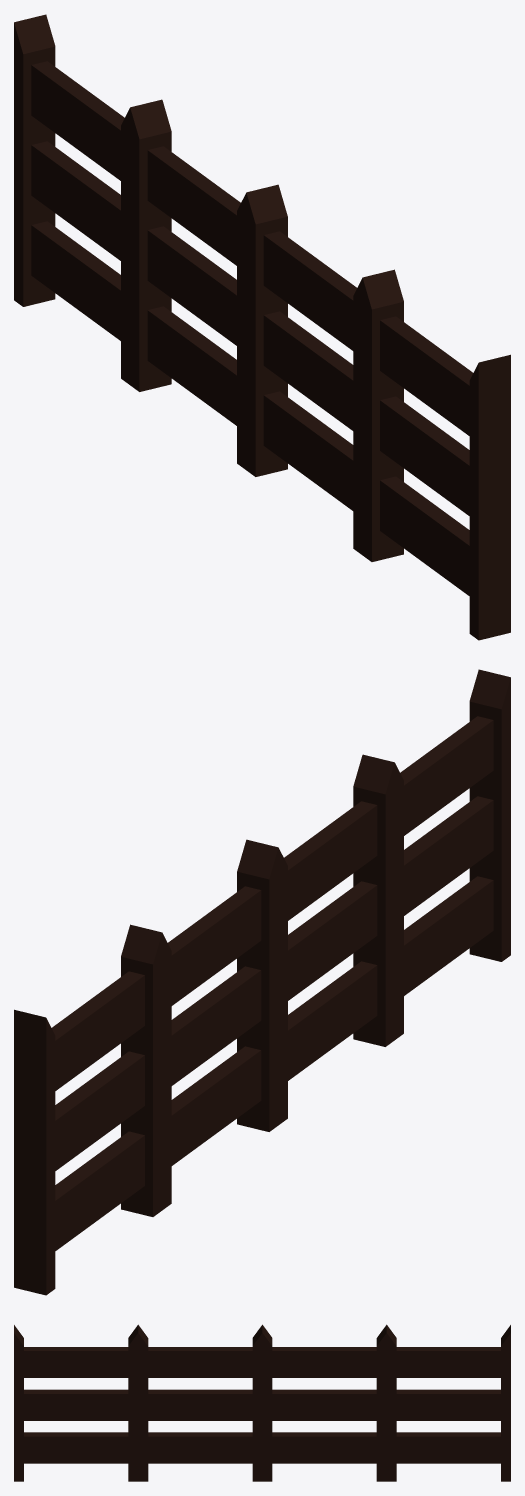
The model's file is h-004_fence_5.0_01_F.FBX.
The picture shows the model from 3 angles, top to bottom: view 1: azimuth 30°, elevation 25°; view 2: azimuth 150°, elevation 25°; view 3: azimuth 270°, elevation 25°; orthographic projection. The views are drawn at different scales.
Visible parts, largest first — view 1: h-004_fence_5.0_01; view 2: h-004_fence_5.0_01; view 3: h-004_fence_5.0_01.
Boxes of the visible parts, x1,y1,x2,y2 form: h-004_fence_5.0_01: (14,14,510,640); h-004_fence_5.0_01: (14,669,510,1295); h-004_fence_5.0_01: (14,1324,510,1481).
Bounding box in the file's own units: 2 × 16.5 × 50.
